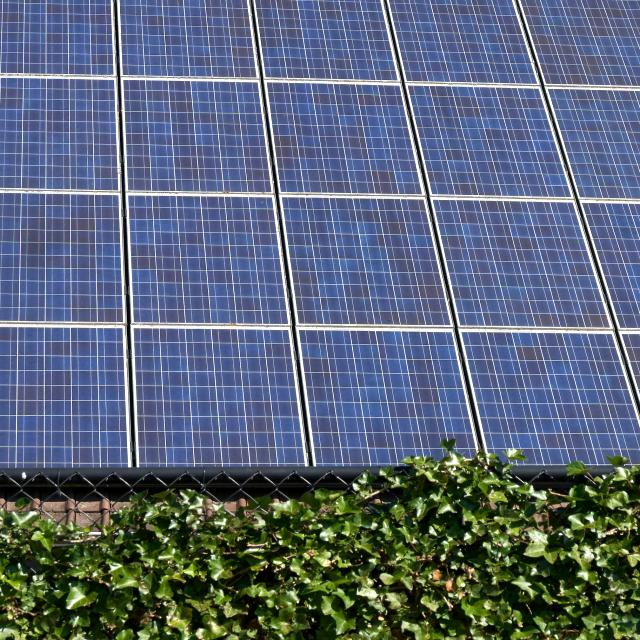crack: (114, 319, 333, 491), (288, 325, 492, 498), (453, 322, 640, 499), (262, 192, 480, 338), (248, 78, 442, 216), (112, 75, 294, 209), (2, 322, 147, 486), (123, 191, 298, 323), (2, 188, 142, 342), (400, 84, 573, 200)
